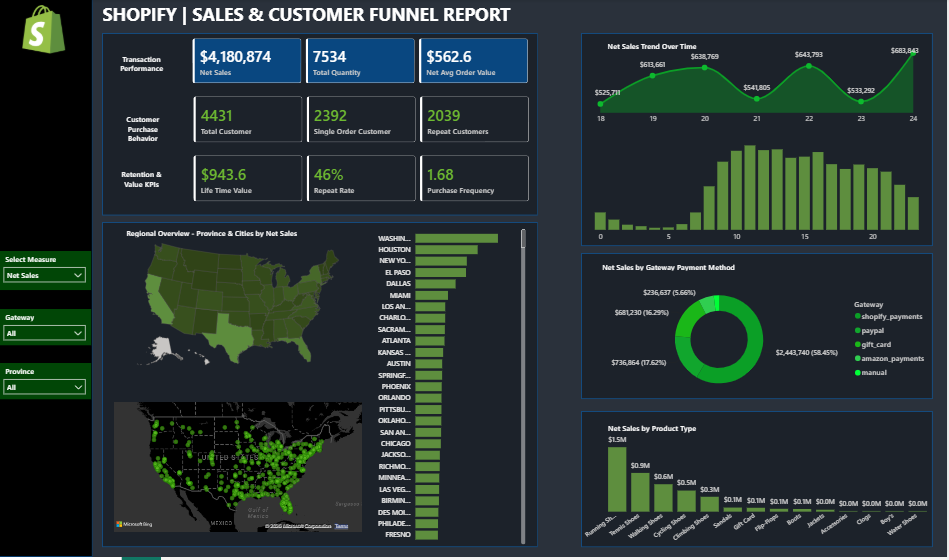

Layout of this report page (visuals, bound fields, positions):
{"tool":"powerbi","page":{"name":"Dashboard SHOPIFY","canvas":[1700,1000],"ordinal":0},"visuals":[{"type":"shape","box":[0,0,169.3,1000],"z":0},{"type":"textbox","box":[169.6,0,765.2,72.5],"z":1000},{"type":"shape","box":[187,61,781.5,326.8],"z":2000},{"type":"cardVisual","fields":{"Data":["shopify_sales.Net Sales","shopify_sales.Total Quantity","shopify_sales.Net Avg Order Value"]},"box":[330.7,53.1,637.8,114.2],"z":3000},{"type":"cardVisual","fields":{"Data":["shopify_sales.Transaction Perf"]},"box":[187,58.8,142.9,109.2],"z":4000},{"type":"cardVisual","fields":{"Data":["shopify_sales.Total Customer","shopify_sales.Single Order Customer","shopify_sales.Repeat Customers"]},"box":[332.7,157.5,635.8,116.1],"z":5000},{"type":"cardVisual","fields":{"Data":["shopify_sales.Customer Purchase Behavior"]},"box":[189,167.3,143.7,129.9],"z":6000},{"type":"cardVisual","fields":{"Data":["shopify_sales.Life Time Value","shopify_sales.Repeat Rate","shopify_sales.Purchase Frequency"]},"box":[332.7,263.8,635.8,116.1],"z":7000},{"type":"cardVisual","fields":{"Data":["shopify_sales.Retention & Value KPIs"]},"box":[185.8,256.3,142.8,130.7],"z":8000},{"type":"shape","box":[187,399.6,781.5,582.7],"z":9000},{"type":"shapeMap","fields":{"Value":["shopify_sales.Net Sales"],"Category":["shopify_sales.Billing Address Province"]},"box":[203.2,421.3,454.8,251.6],"z":10000},{"type":"slicer","fields":{"Values":["Select Measure.Select Measure"]},"box":[0,452.2,166.7,69.6],"z":11000},{"type":"map","fields":{"Category":["shopify_sales.Location"]},"box":[202.8,716.5,454.7,244.1],"z":12000},{"type":"clusteredBarChart","fields":{"Y":["shopify_sales.Net Sales"],"Category":["shopify_sales.CITY"]},"box":[663.4,399.6,287.4,582.7],"z":13000},{"type":"cardVisual","fields":{"Data":["shopify_sales.Map Title"]},"box":[153.5,379.9,458.7,74.8],"z":14000},{"type":"shape","box":[1045.3,61,629.9,381.9],"z":15000},{"type":"areaChart","fields":{"Y":["shopify_sales.Net Sales"],"Category":["shopify_sales.Invoice Date.Variation.Date Hierarchy.Day"]},"box":[1065,72.8,590.6,159.4],"z":16000},{"type":"columnChart","fields":{"Y":["shopify_sales.Net Sales"],"Category":["shopify_sales.Hour"]},"box":[1065,232.3,590.6,210.6],"z":17000},{"type":"cardVisual","fields":{"Data":["shopify_sales.Trend Title"]},"box":[1045.3,53.1,255.9,57.1],"z":18000},{"type":"shape","box":[1045.3,454.7,629.9,261.8],"z":19000},{"type":"donutChart","fields":{"Y":["shopify_sales.Net Sales"],"Category":["shopify_sales.Gateway"]},"box":[1045.3,503.9,629.9,212.6],"z":20000},{"type":"cardVisual","fields":{"Data":["shopify_sales.Gateway Title"]},"box":[1045.3,454.7,315,49.2],"z":21000},{"type":"shape","box":[1045.3,738.2,629.9,244.1],"z":22000},{"type":"columnChart","fields":{"Y":["shopify_sales.Net Sales"],"Category":["shopify_sales.Product Type"]},"box":[1045.3,765.7,641.7,216.5],"z":23000},{"type":"cardVisual","fields":{"Data":["shopify_sales.Product Title"]},"box":[1045.3,740.2,255.9,55.1],"z":24000},{"type":"image","box":[30.4,10.1,102.9,87],"z":25000},{"type":"slicer","fields":{"Values":["shopify_sales.Gateway"]},"box":[0,555.1,166.7,65.2],"z":26000},{"type":"slicer","fields":{"Values":["shopify_sales.Billing Address Province"]},"box":[0,651.6,167.3,65],"z":26001}]}

Visuals, with their boxes in screenshot pixels (x1, y1, x2, y2), scaled from the page's 1700x1000 canvas onto the 949x560 screenshot:
shape: {"x1": 0, "y1": 0, "x2": 95, "y2": 559}
textbox: {"x1": 95, "y1": 0, "x2": 522, "y2": 41}
shape: {"x1": 104, "y1": 34, "x2": 541, "y2": 217}
cardVisual - shopify_sales.Net Sales x shopify_sales.Total Quantity: {"x1": 185, "y1": 30, "x2": 541, "y2": 94}
cardVisual - shopify_sales.Transaction Perf: {"x1": 104, "y1": 33, "x2": 184, "y2": 94}
cardVisual - shopify_sales.Total Customer x shopify_sales.Single Order Customer: {"x1": 186, "y1": 88, "x2": 541, "y2": 153}
cardVisual - shopify_sales.Customer Purchase Behavior: {"x1": 106, "y1": 94, "x2": 186, "y2": 166}
cardVisual - shopify_sales.Life Time Value x shopify_sales.Repeat Rate: {"x1": 186, "y1": 148, "x2": 541, "y2": 213}
cardVisual - shopify_sales.Retention & Value KPIs: {"x1": 104, "y1": 144, "x2": 183, "y2": 217}
shape: {"x1": 104, "y1": 224, "x2": 541, "y2": 550}
shapeMap - shopify_sales.Net Sales x shopify_sales.Billing Address Province: {"x1": 113, "y1": 236, "x2": 367, "y2": 377}
slicer - Select Measure.Select Measure: {"x1": 0, "y1": 253, "x2": 93, "y2": 292}
map - shopify_sales.Location: {"x1": 113, "y1": 401, "x2": 367, "y2": 538}
clusteredBarChart - shopify_sales.Net Sales x shopify_sales.CITY: {"x1": 370, "y1": 224, "x2": 531, "y2": 550}
cardVisual - shopify_sales.Map Title: {"x1": 86, "y1": 213, "x2": 342, "y2": 255}
shape: {"x1": 584, "y1": 34, "x2": 935, "y2": 248}
areaChart - shopify_sales.Net Sales x shopify_sales.Invoice Date.Variation.Date Hierarchy.Day: {"x1": 595, "y1": 41, "x2": 924, "y2": 130}
columnChart - shopify_sales.Net Sales x shopify_sales.Hour: {"x1": 595, "y1": 130, "x2": 924, "y2": 248}
cardVisual - shopify_sales.Trend Title: {"x1": 584, "y1": 30, "x2": 726, "y2": 62}
shape: {"x1": 584, "y1": 255, "x2": 935, "y2": 401}
donutChart - shopify_sales.Net Sales x shopify_sales.Gateway: {"x1": 584, "y1": 282, "x2": 935, "y2": 401}
cardVisual - shopify_sales.Gateway Title: {"x1": 584, "y1": 255, "x2": 759, "y2": 282}
shape: {"x1": 584, "y1": 413, "x2": 935, "y2": 550}
columnChart - shopify_sales.Net Sales x shopify_sales.Product Type: {"x1": 584, "y1": 429, "x2": 942, "y2": 550}
cardVisual - shopify_sales.Product Title: {"x1": 584, "y1": 415, "x2": 726, "y2": 445}
image: {"x1": 17, "y1": 6, "x2": 74, "y2": 54}
slicer - shopify_sales.Gateway: {"x1": 0, "y1": 311, "x2": 93, "y2": 347}
slicer - shopify_sales.Billing Address Province: {"x1": 0, "y1": 365, "x2": 93, "y2": 401}
